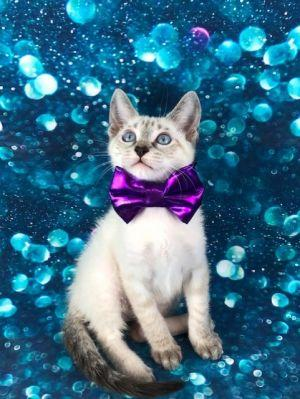siamese: (103, 80, 208, 191)
